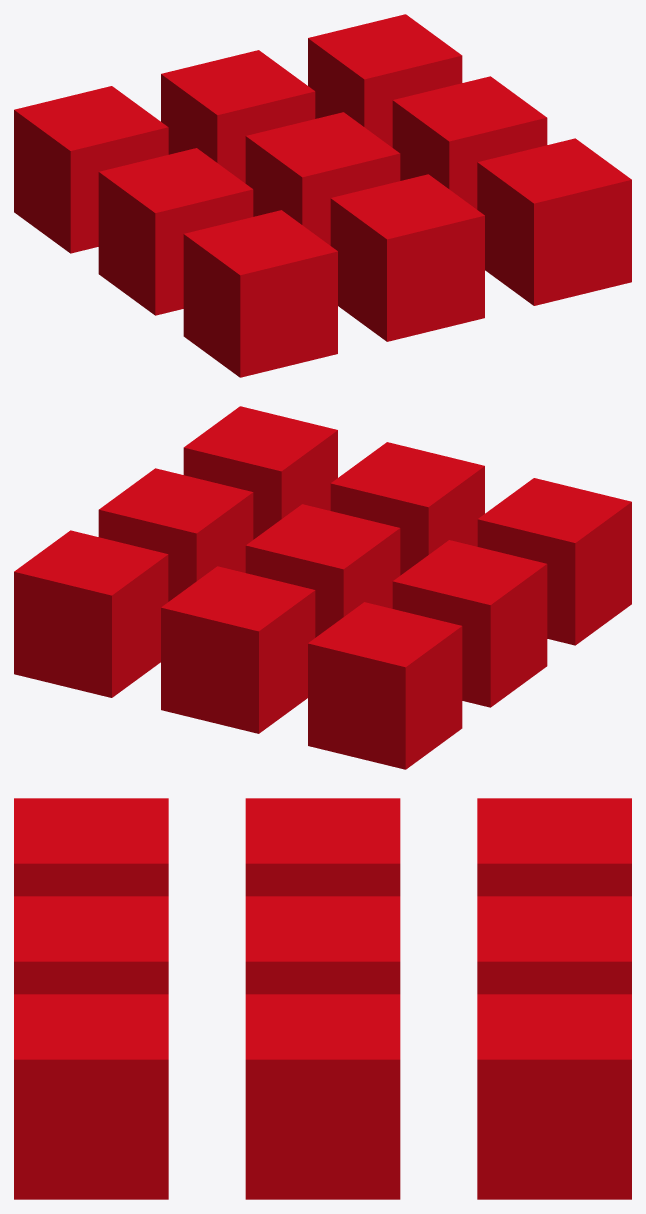
The model's file is shadow_mapping_points.glb.
The picture shows the model from 3 angles, top to bottom: view 1: azimuth 30°, elevation 25°; view 2: azimuth 150°, elevation 25°; view 3: azimuth 270°, elevation 25°; orthographic projection. The views are drawn at different scales.
Parts seen in each view (by area): view 1: Cube.008, Cube.007, Cube.006, Cube.004, Cube.005, Cube, Cube.001, Cube.002, Cube.003; view 2: Cube.005, Cube.003, Cube.002, Cube.004, Cube.008, Cube, Cube.001, Cube.006, Cube.007; view 3: Cube.001, Cube.003, Cube.007, Cube, Cube.004, Cube.002, Cube.005, Cube.006, Cube.008.
Boxes of the visible parts, x1,y1,x2,y2 form: Cube.008: (183, 210, 337, 377); Cube.007: (477, 138, 631, 305); Cube.006: (330, 174, 484, 341); Cube.004: (98, 148, 253, 315); Cube.005: (14, 86, 168, 253); Cube: (245, 112, 400, 245); Cube.001: (392, 76, 547, 209); Cube.002: (161, 50, 315, 183); Cube.003: (308, 14, 462, 147); Cube.005: (308, 602, 462, 769); Cube.003: (14, 530, 168, 697); Cube.002: (161, 566, 315, 733); Cube.004: (392, 540, 547, 707); Cube.008: (477, 478, 631, 645); Cube: (245, 504, 400, 637); Cube.001: (98, 468, 253, 601); Cube.006: (330, 442, 484, 575); Cube.007: (183, 406, 337, 539); Cube.001: (245, 994, 400, 1199); Cube.003: (477, 994, 631, 1199); Cube.007: (14, 994, 168, 1199); Cube: (245, 896, 400, 994); Cube.004: (245, 798, 400, 896); Cube.002: (477, 896, 631, 994); Cube.005: (477, 798, 631, 896); Cube.006: (14, 896, 168, 994); Cube.008: (14, 798, 168, 896).
Size of what is drawn, in the model's own units: 8 by 2 by 8.
